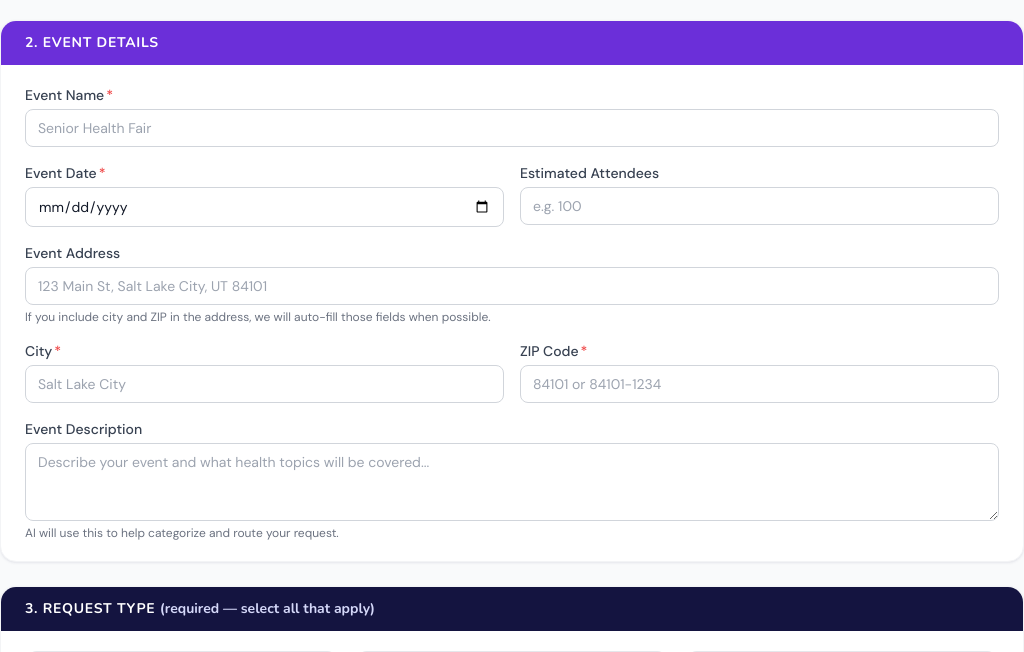
Test: RequestForm › Required field validation on blur › shows error for ZIP with non-5-digit value
(page scrolled)
Type "841" into the field labelled "ZIP Code*" at (760, 384), box 520,365 -> 999,403
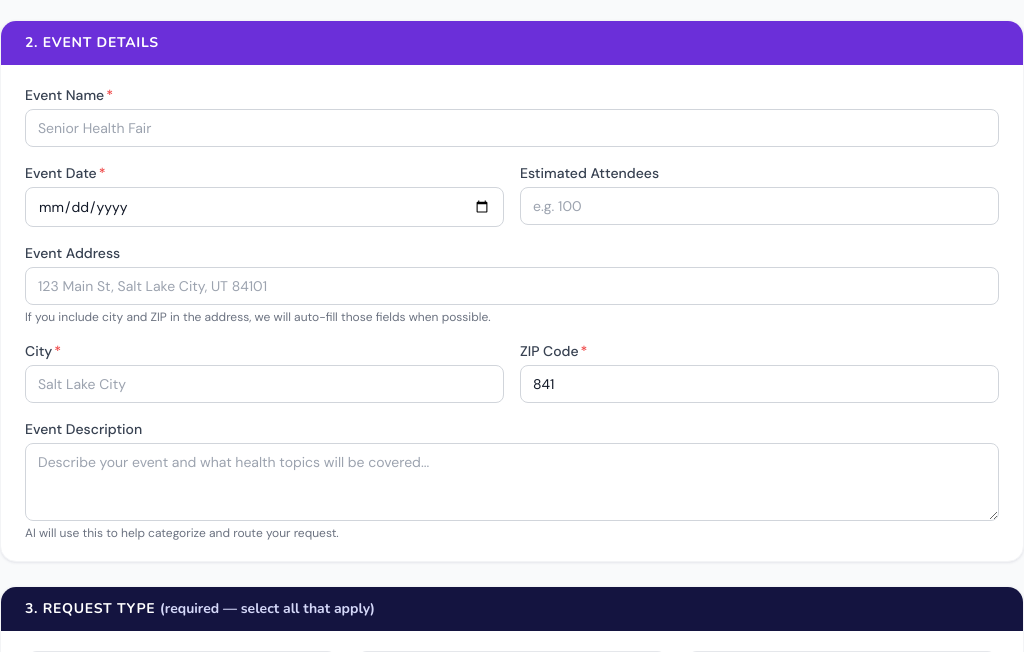
Leave the field labelled "ZIP Code*", box 520,365 -> 999,403
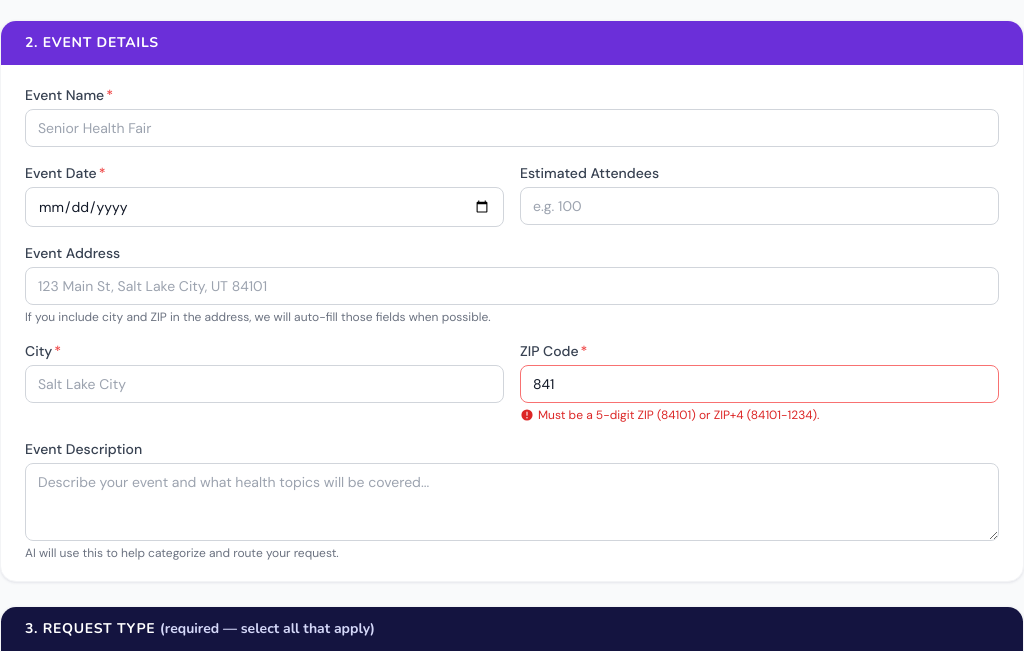
Check: the text "Must be a 5-digit ZIP (84101) or ZIP+4 (84101-1234)." is shown, box 520,407 -> 820,423
